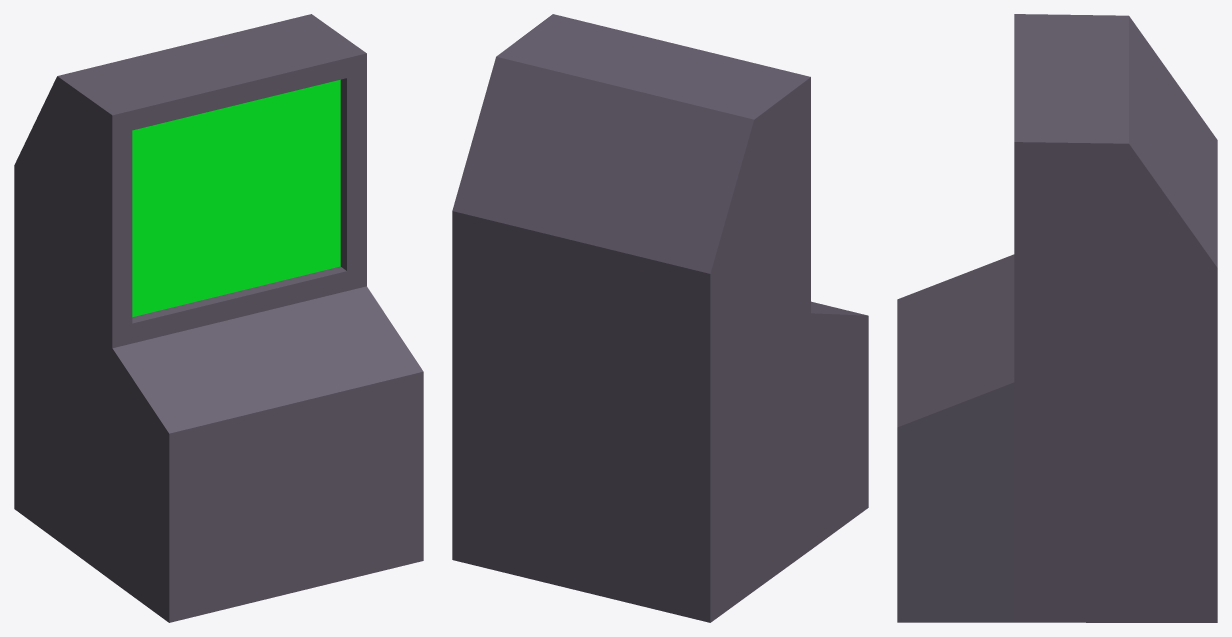
Rendered from WeaponsConsole.gltf.
3 renders of one model, left to right at view 1: azimuth 30°, elevation 25°; view 2: azimuth 150°, elevation 25°; view 3: azimuth 270°, elevation 25°, orthographic. The views are drawn at different scales.
Parts seen in each view (by area): view 1: Cube, Cube.004; view 2: Cube; view 3: Cube.
Part boxes in pixels (x1,y1,x2,y2): Cube: [14, 14, 423, 622]; Cube.004: [132, 79, 340, 317]; Cube: [452, 14, 868, 622]; Cube: [897, 14, 1217, 622].
Bounding box in the file's own units: 1.39 × 2.42 × 1.46.
